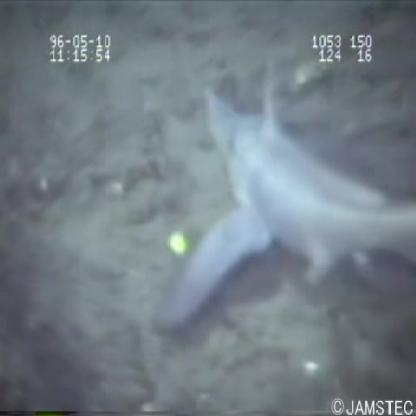Bio: (142, 66, 416, 344)
